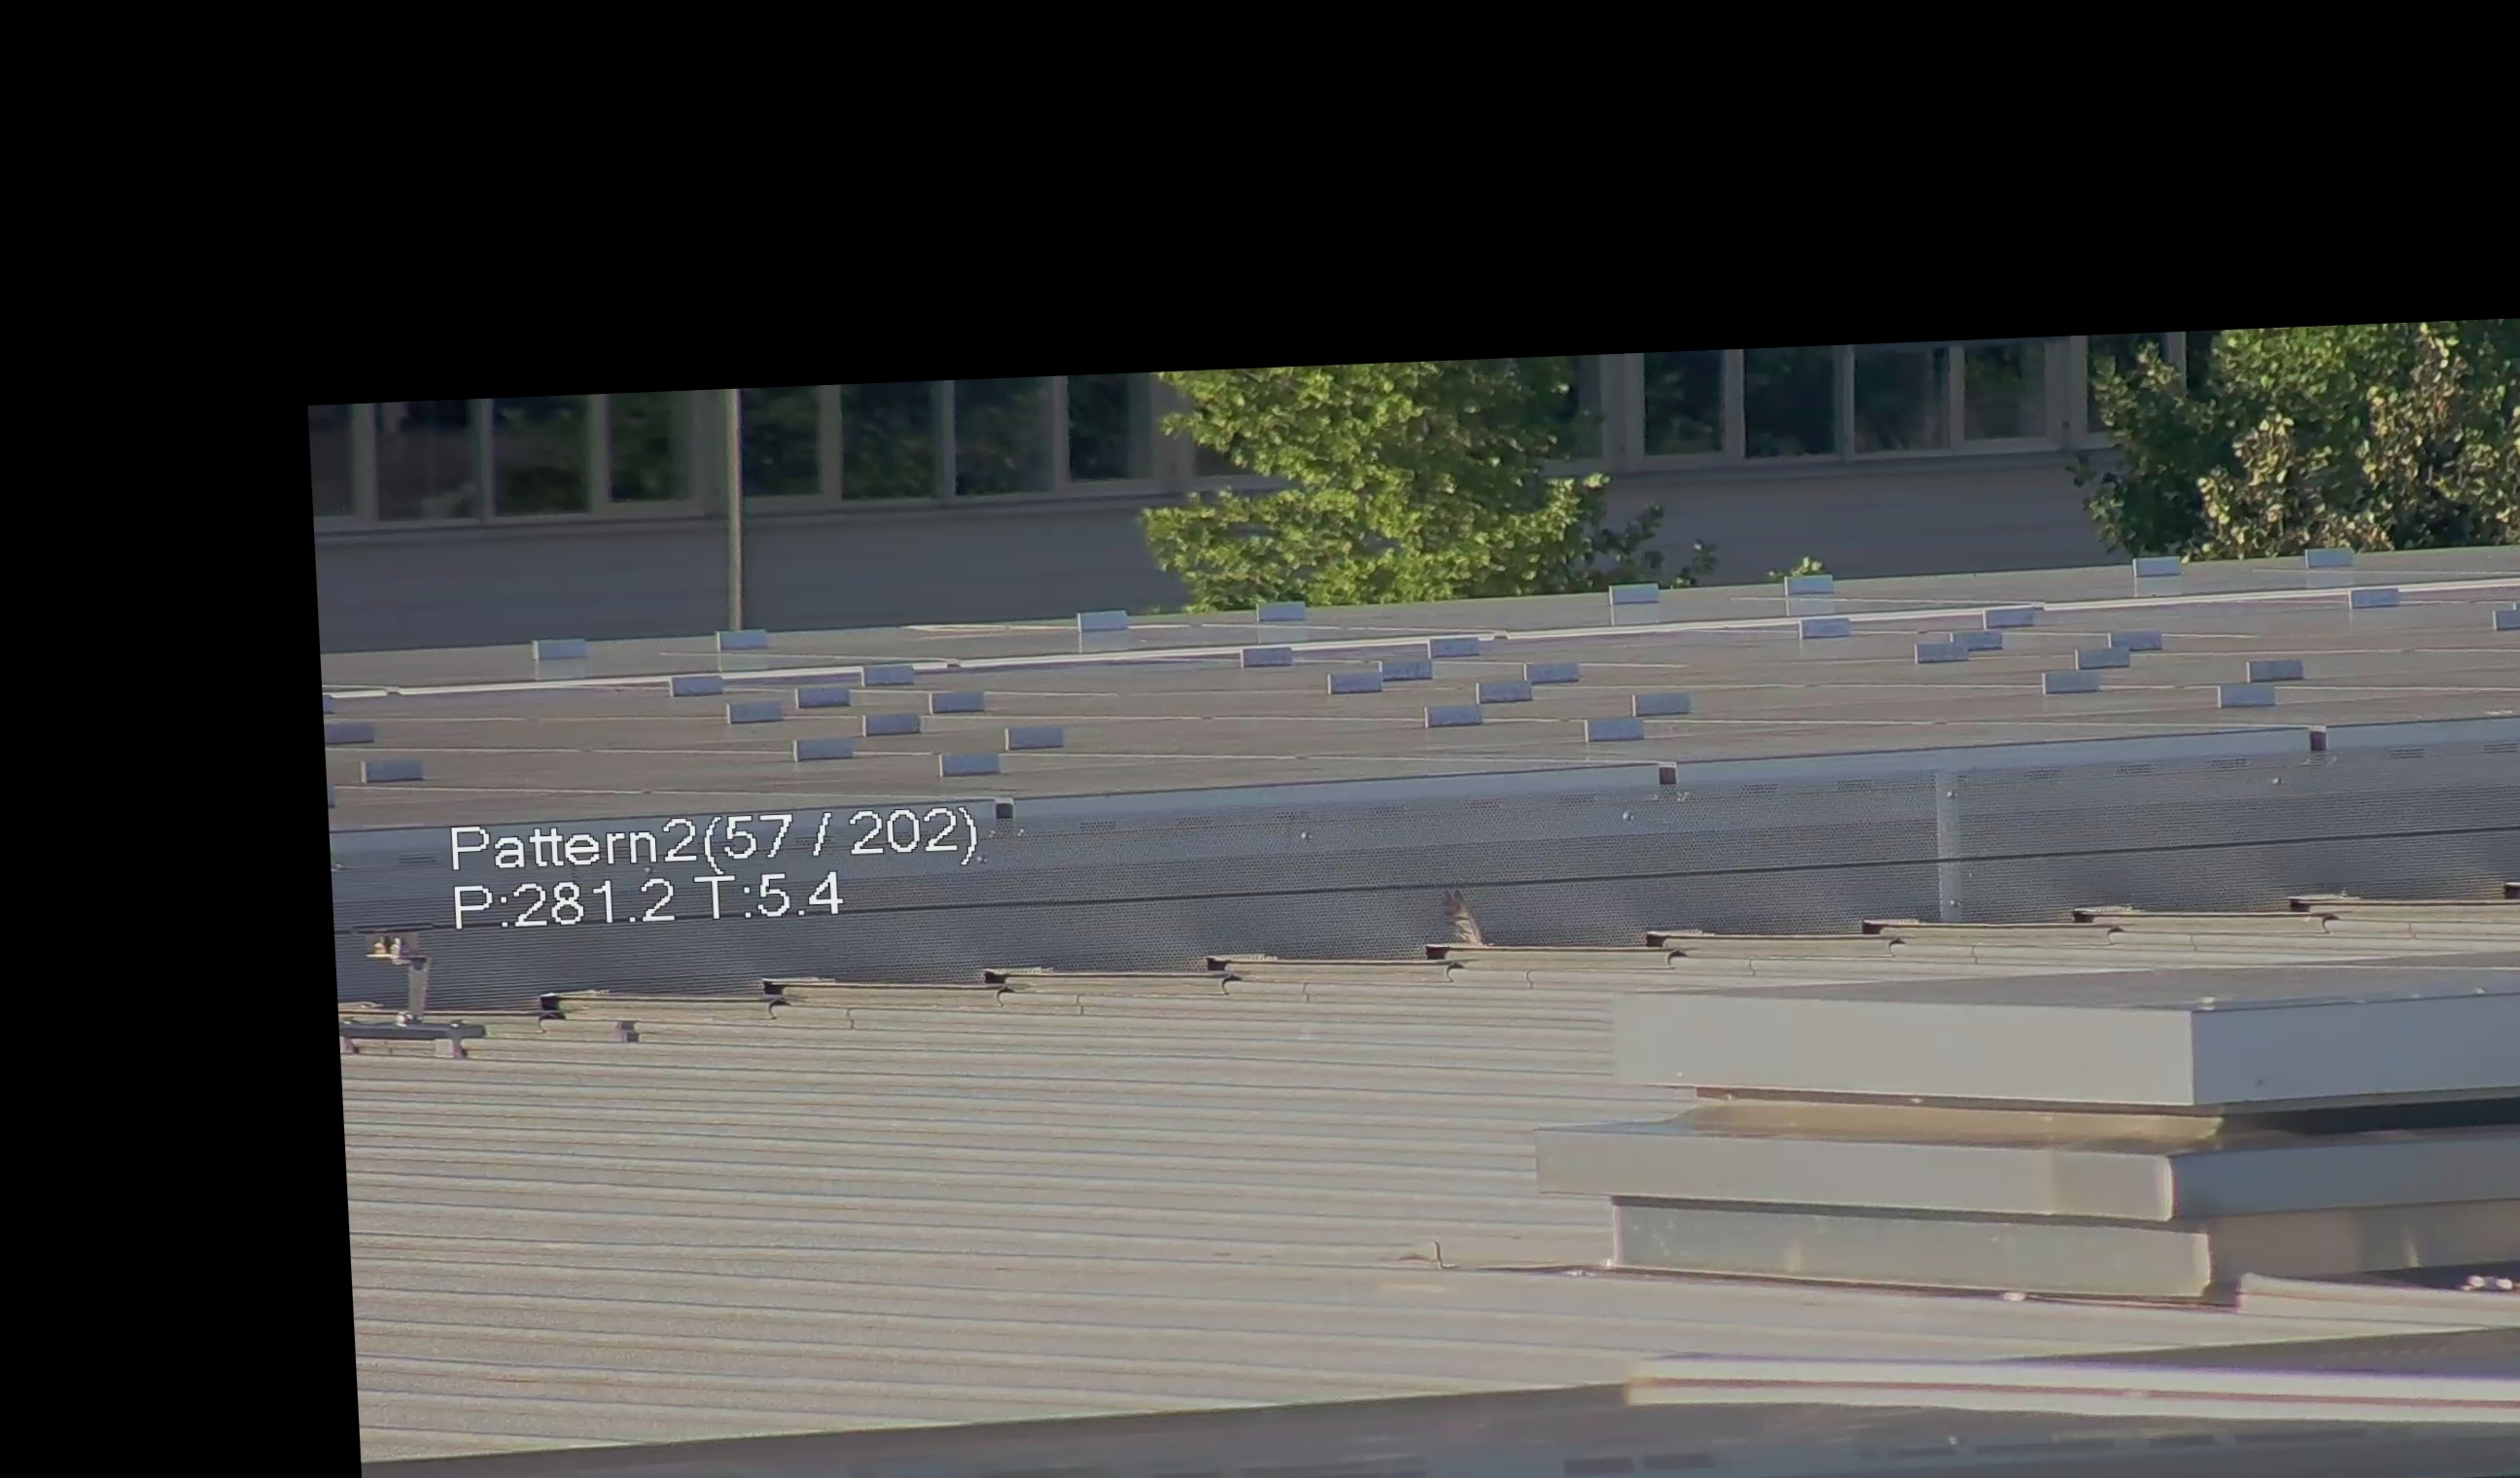Other: (1410, 873, 1498, 975)
